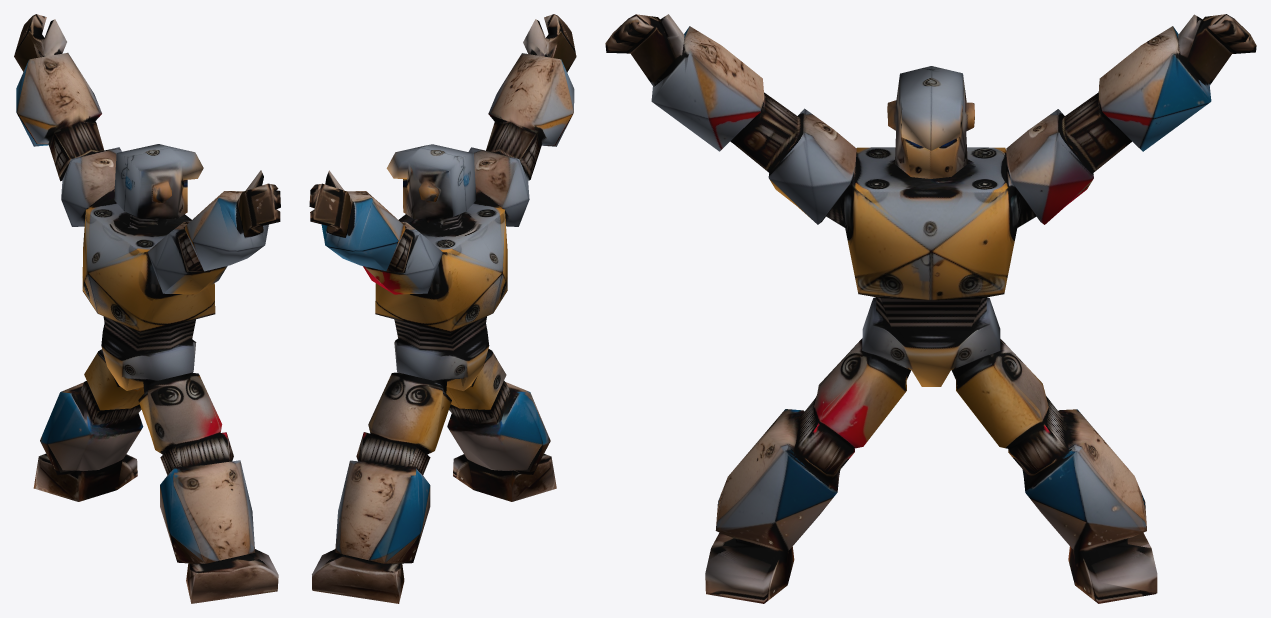
Rendered from Modular_Low-Poly_Robot_Character_Rigged.glb.
3 views of the same model, side by side, from view 1: azimuth 30°, elevation 25°; view 2: azimuth 150°, elevation 25°; view 3: azimuth 270°, elevation 25° (orthographic). The views are drawn at different scales.
Visible parts, largest first — view 1: tripo_node_cdb207b5_tripo_mat_cdb207b5_0; view 2: tripo_node_cdb207b5_tripo_mat_cdb207b5_0; view 3: tripo_node_cdb207b5_tripo_mat_cdb207b5_0.
Boxes of the visible parts, x1,y1,x2,y2 form: tripo_node_cdb207b5_tripo_mat_cdb207b5_0: (14, 14, 280, 603); tripo_node_cdb207b5_tripo_mat_cdb207b5_0: (309, 14, 576, 603); tripo_node_cdb207b5_tripo_mat_cdb207b5_0: (605, 14, 1256, 603).
Size of the model in its own units: 0.2769 by 0.952 by 1.
1 material, 1 textured.
